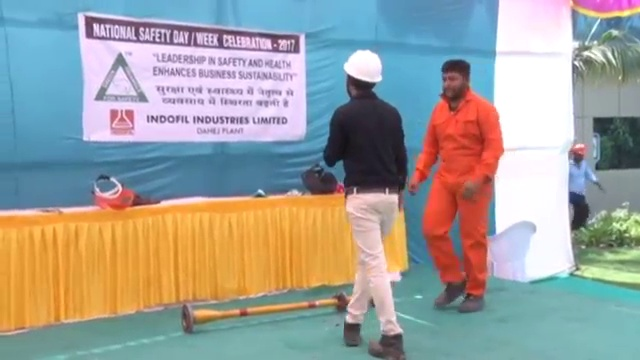helmet: (341, 47, 384, 86), (573, 142, 587, 157)
helmet_off: (437, 59, 472, 100)
helmet_on: (341, 46, 384, 99), (569, 141, 587, 166)
person: (321, 43, 411, 358), (410, 59, 493, 313), (567, 138, 603, 233)
